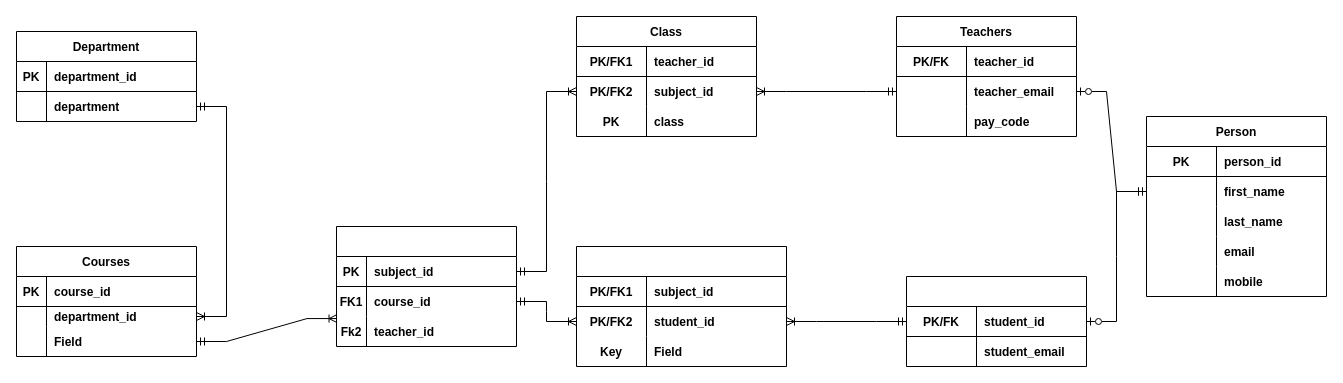
The diagram is 1343 pixels wide and 383 high, and some of its shapes have lost their labels. Here are the shapes that lost their labels. From the top down, the box of each, then its label:
(336, 226, 516, 346): Subjects
(576, 246, 786, 366): Student_Subject
(906, 276, 1086, 366): Students
